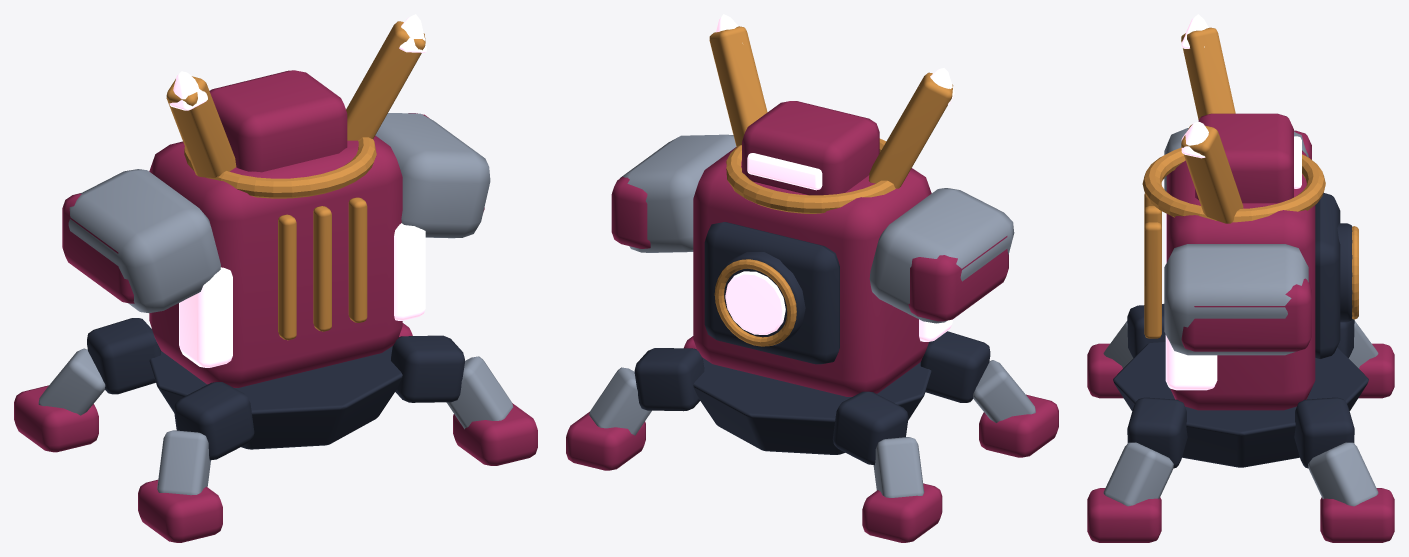
Rendered from boss.glb.
3 renders of one model, left to right at view 1: azimuth 30°, elevation 25°; view 2: azimuth 150°, elevation 25°; view 3: azimuth 270°, elevation 25°, orthographic. The views are drawn at different scales.
Visible parts, largest first — view 1: Command torso, Shoulder shield, Core carrier, Head armor, Shoulder shield.001, Stabilizer thigh.002, Reactor flank, Crown horn.001, Stabilizer thigh, Stabilizer thigh.001, Heavy foot, Crown horn (+13 smaller); view 2: Command torso, Core carrier, Shoulder shield, Chest shield, Head armor, Shoulder shield.001, Shoulder guard, Crown horn, Crown horn.001, Stabilizer thigh.003, Stabilizer thigh.001, Stabilizer thigh (+12 smaller); view 3: Command torso, Shoulder shield.001, Core carrier, Head armor, Shoulder guard.001, Chest shield, Crown harness, Crown horn.001, Heavy foot.002, Heavy foot.003, Crown horn, Stabilizer thigh.002 (+16 smaller).
Boxes of the visible parts, left/top/right/bottom form: Command torso: left=149, top=135, right=402, bottom=387; Shoulder shield: left=68, top=169, right=220, bottom=312; Core carrier: left=149, top=346, right=402, bottom=449; Head armor: left=209, top=70, right=347, bottom=172; Shoulder shield.001: left=375, top=113, right=490, bottom=238; Stabilizer thigh.002: left=391, top=335, right=464, bottom=402; Reactor flank: left=179, top=267, right=232, bottom=367; Crown horn.001: left=346, top=21, right=425, bottom=140; Stabilizer thigh: left=174, top=382, right=254, bottom=460; Stabilizer thigh.001: left=87, top=318, right=161, bottom=394; Heavy foot: left=138, top=479, right=222, bottom=542; Crown horn: left=166, top=76, right=236, bottom=177; Command torso: left=693, top=147, right=931, bottom=396; Core carrier: left=693, top=358, right=931, bottom=454; Shoulder shield: left=869, top=188, right=1014, bottom=323; Chest shield: left=704, top=222, right=839, bottom=364; Head armor: left=742, top=101, right=879, bottom=195; Shoulder shield.001: left=620, top=134, right=736, bottom=252; Shoulder guard: left=908, top=236, right=1008, bottom=321; Crown horn: left=868, top=72, right=953, bottom=188; Crown horn.001: left=709, top=26, right=767, bottom=146; Stabilizer thigh.003: left=634, top=348, right=704, bottom=411; Stabilizer thigh.001: left=832, top=391, right=908, bottom=465; Stabilizer thigh: left=920, top=331, right=990, bottom=402; Command torso: left=1166, top=150, right=1315, bottom=410; Shoulder shield.001: left=1164, top=244, right=1308, bottom=355; Core carrier: left=1113, top=342, right=1368, bottom=467; Head armor: left=1195, top=113, right=1293, bottom=203; Shoulder guard.001: left=1181, top=278, right=1311, bottom=351; Chest shield: left=1315, top=193, right=1340, bottom=358; Crown harness: left=1142, top=148, right=1325, bottom=222; Crown horn.001: left=1181, top=124, right=1243, bottom=223; Heavy foot.002: left=1087, top=488, right=1161, bottom=542; Heavy foot.003: left=1320, top=488, right=1394, bottom=542; Crown horn: left=1181, top=27, right=1235, bottom=119; Stabilizer thigh.002: left=1127, top=397, right=1187, bottom=468.
Size of the model in its own units: 1.79 by 1.93 by 1.37.
